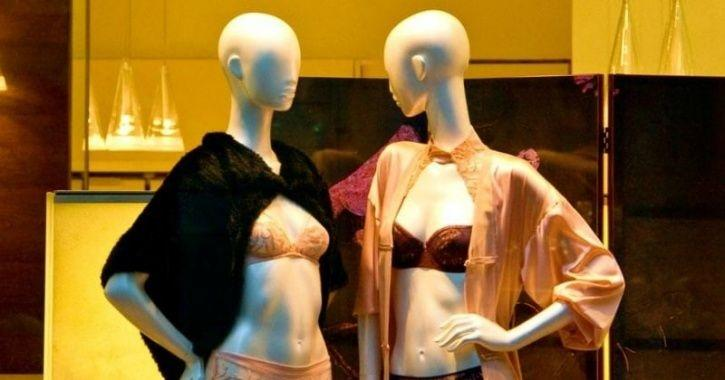person-like: (352, 6, 627, 380), (101, 9, 340, 380)
